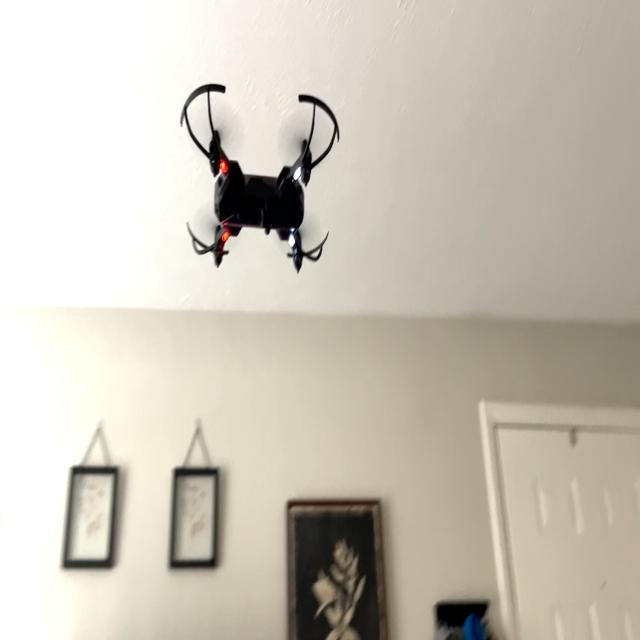drone: (169, 61, 345, 285)
